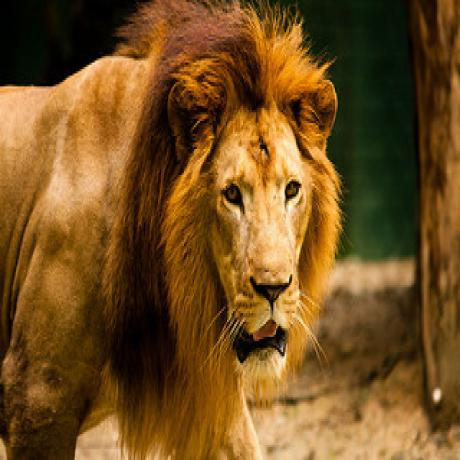Lion: (0, 0, 343, 460)
